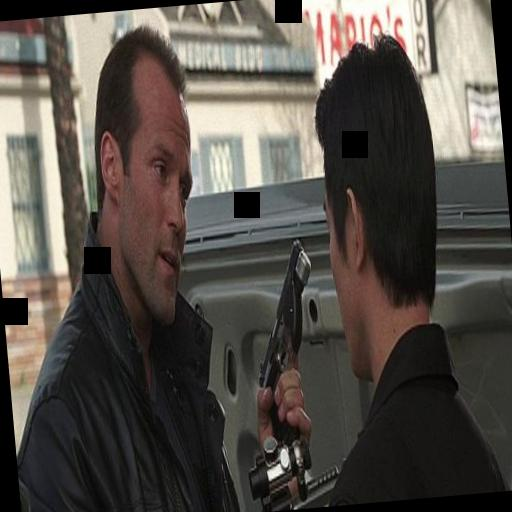Handgun: (224, 224, 334, 512)
